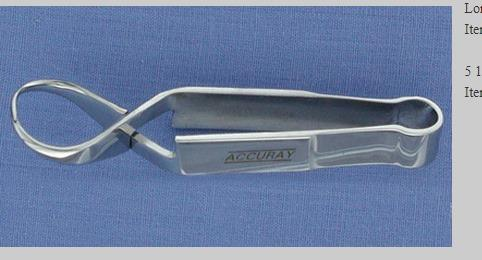Doyen Cross Action Towel Clamp: (8, 74, 447, 181)
